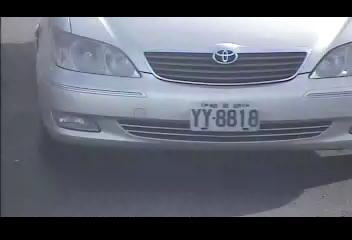plate: (189, 102, 261, 133)
